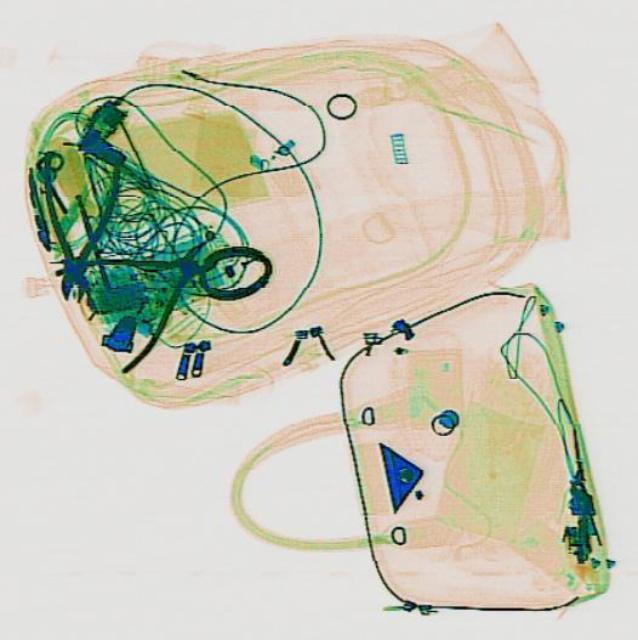Pliers: (58, 205, 251, 373), (36, 163, 120, 301)
